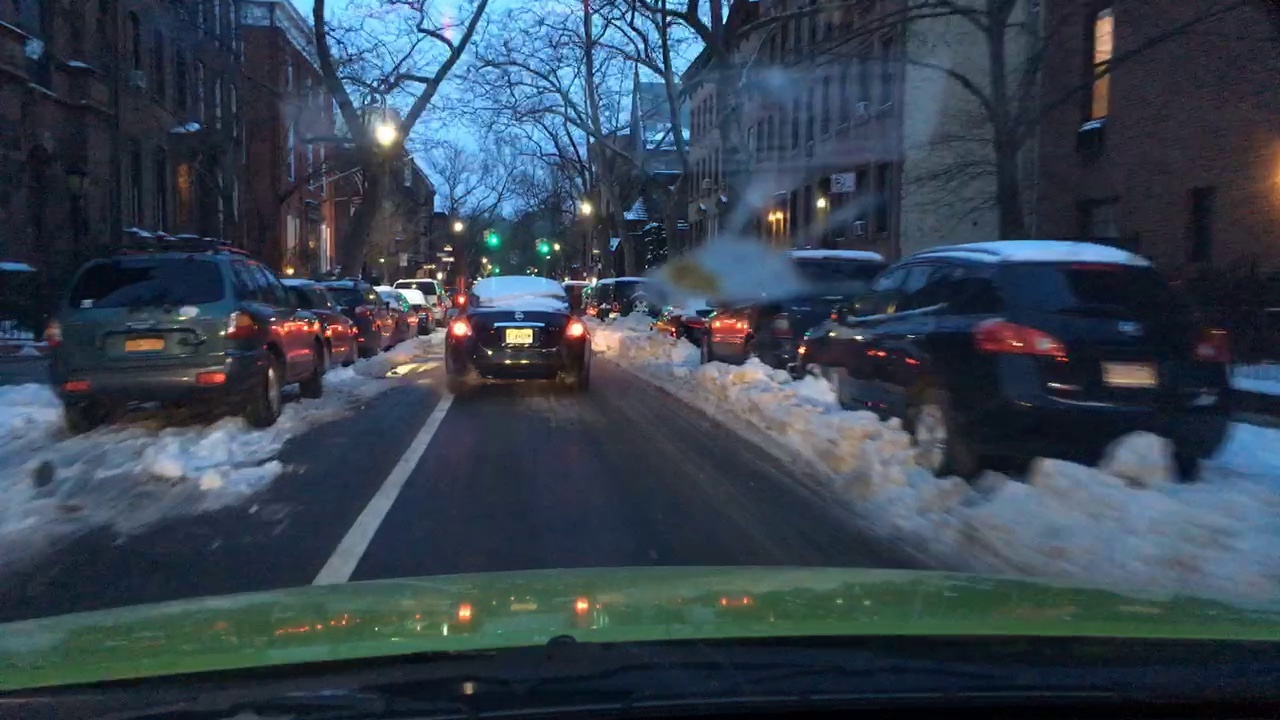car: (814, 232, 1235, 502), (43, 244, 325, 426), (689, 244, 877, 385), (443, 273, 595, 394), (278, 273, 364, 370), (327, 276, 394, 351)
